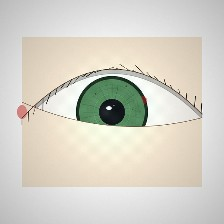hemorrhage_spot: (91, 74, 154, 125)
